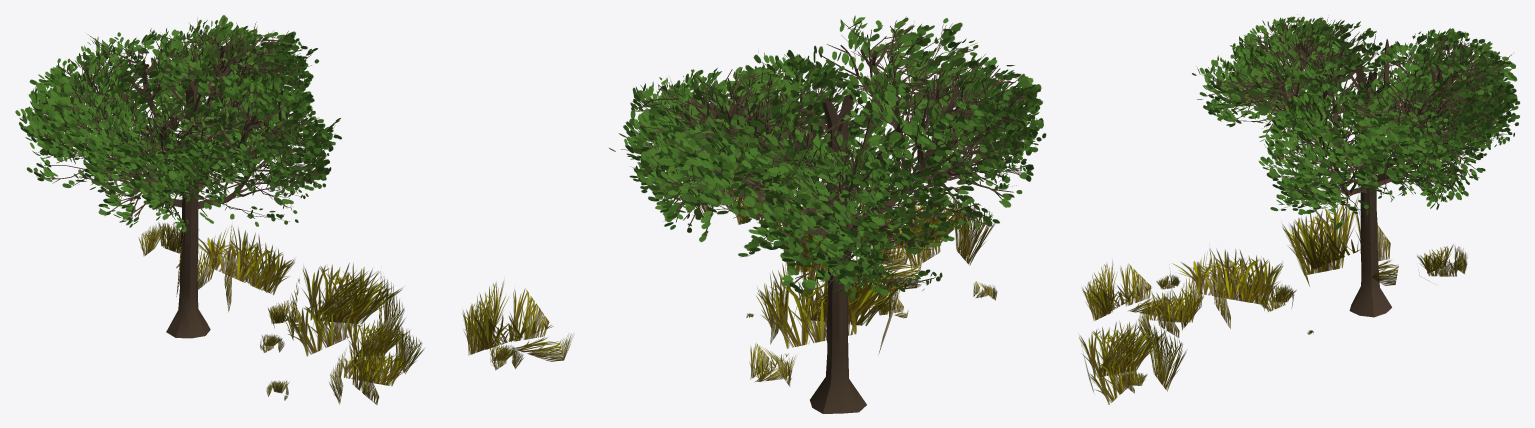
3 renders of one model, left to right at view 1: azimuth 30°, elevation 25°; view 2: azimuth 150°, elevation 25°; view 3: azimuth 270°, elevation 25°, orthographic. The views are drawn at different scales.
Parts seen in each view (by area): view 1: Low Poly Stylized 2D Grass.2014; view 2: Low Poly Stylized 2D Grass.2014; view 3: Low Poly Stylized 2D Grass.2014.
Part boxes in pixels (left/top/right/bottom): Low Poly Stylized 2D Grass.2014: left=15, top=15, right=574, bottom=404; Low Poly Stylized 2D Grass.2014: left=609, top=15, right=1046, bottom=413; Low Poly Stylized 2D Grass.2014: left=1079, top=14, right=1519, bottom=404.
Size of the model in its own units: 5.53 by 3.61 by 5.8.
3 materials, 2 textured.
